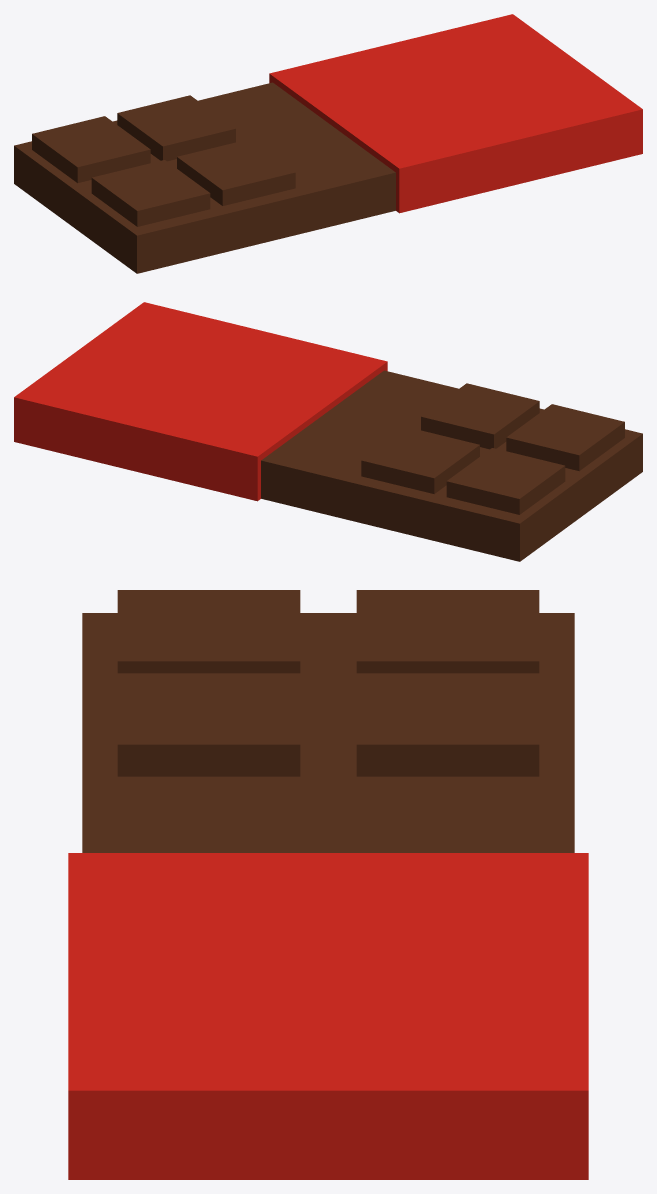
Rendered from chocolate_bar.glb.
3 renders of one model, top to bottom at view 1: azimuth 30°, elevation 25°; view 2: azimuth 150°, elevation 25°; view 3: azimuth 270°, elevation 25°, orthographic. The views are drawn at different scales.
Parts seen in each view (by area): view 1: chocolate_bar; view 2: chocolate_bar; view 3: chocolate_bar.
Boxes of the visible parts, x1,y1,x2,y2 form: chocolate_bar: (14,14,642,273); chocolate_bar: (14,302,642,561); chocolate_bar: (68,590,588,1179).
Size of the model in its own units: 0.165 by 0.017 by 0.074.
